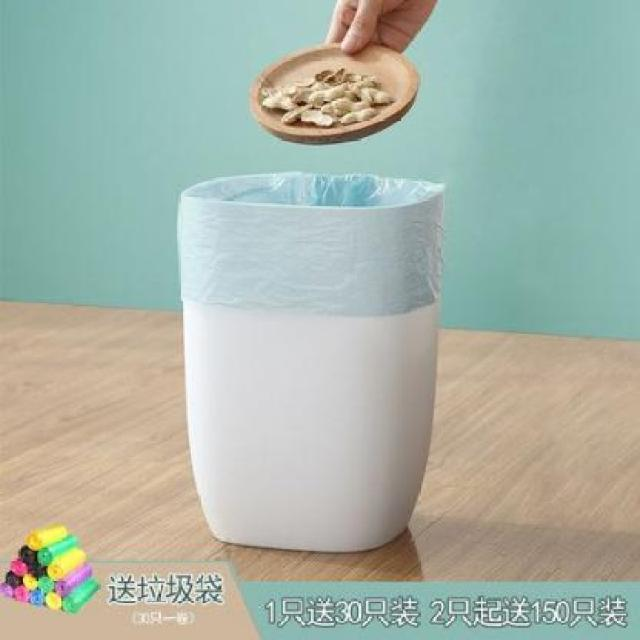dustbin: (174, 167, 451, 558)
